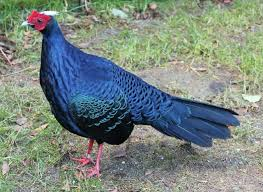Gà/Chicken: (19, 4, 241, 178)
